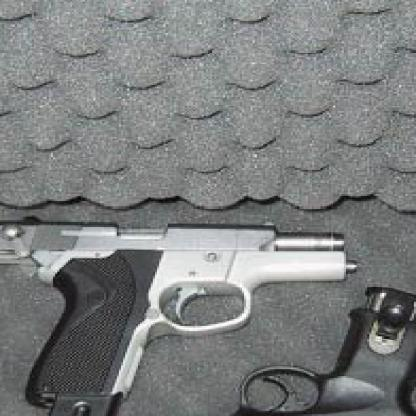gun: (0, 212, 367, 414), (144, 278, 414, 414)
